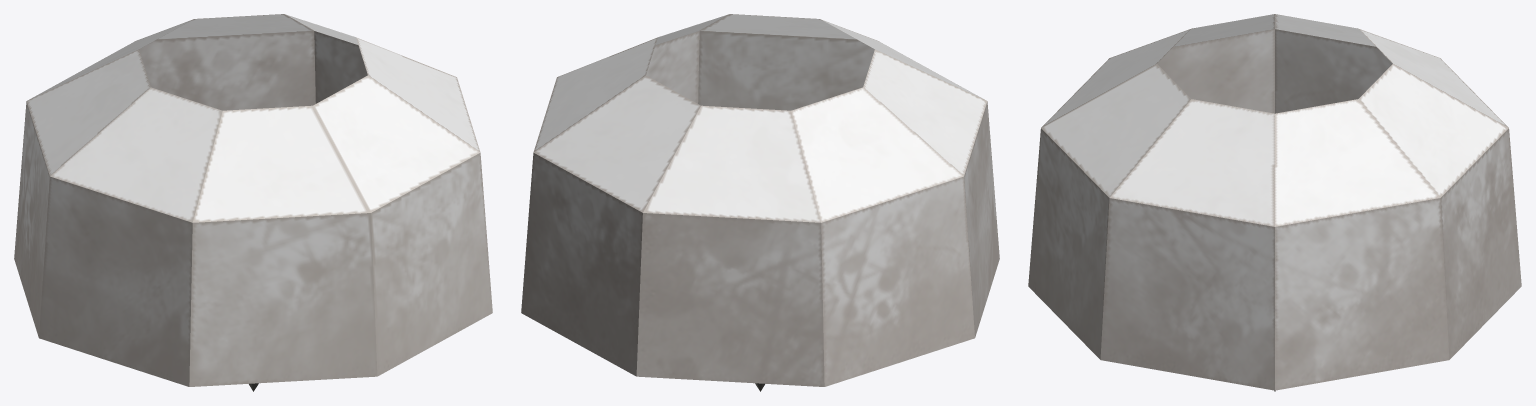
The model's file is nozzle_02.fbx.
3 views of the same model, side by side, from view 1: azimuth 30°, elevation 25°; view 2: azimuth 150°, elevation 25°; view 3: azimuth 270°, elevation 25° (orthographic).
Visible parts, largest first — view 1: nozzle_02; view 2: nozzle_02; view 3: nozzle_02.
Part boxes in pixels (bbox=[...]): nozzle_02: bbox=[14, 14, 492, 391]; nozzle_02: bbox=[521, 14, 999, 391]; nozzle_02: bbox=[1028, 14, 1521, 391].
Size of the model in its own units: 6.72 by 4.93 by 6.72.
